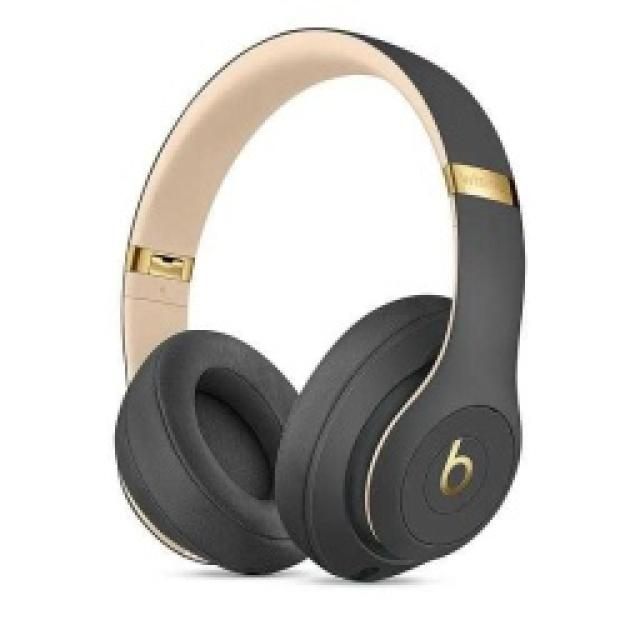headphones: (113, 22, 525, 580)
